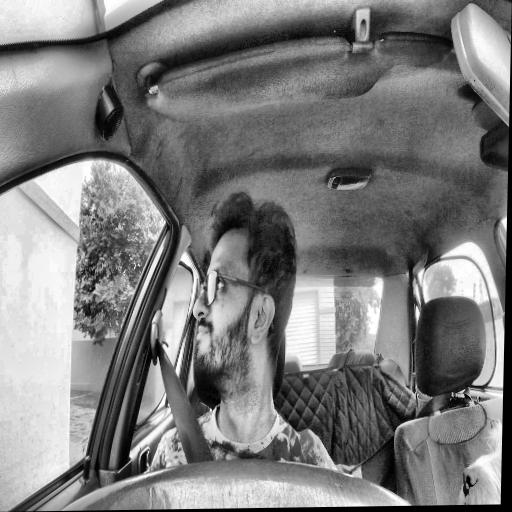awake: (190, 191, 300, 404)
